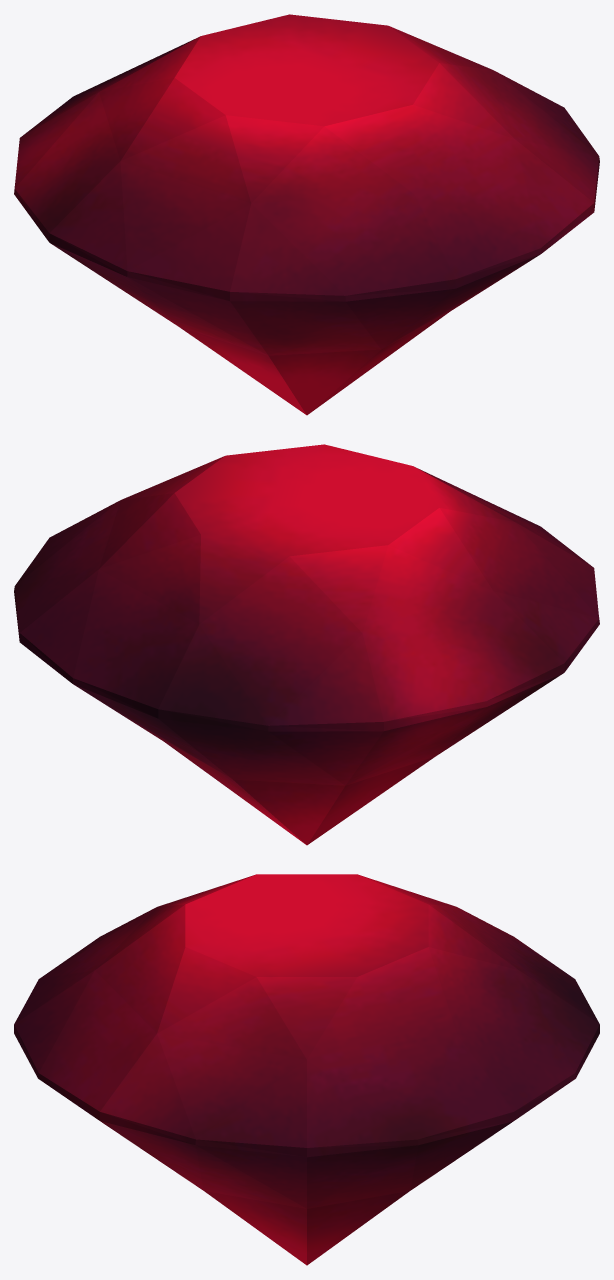
File: Red Chaos Emerald.obj
3 views of the same model, one above another, from view 1: azimuth 30°, elevation 25°; view 2: azimuth 150°, elevation 25°; view 3: azimuth 270°, elevation 25° (orthographic).
Parts seen in each view (by area): view 1: Object01; view 2: Object01; view 3: Object01.
Boxes of the visible parts, x1,y1,x2,y2 form: Object01: (14, 14, 599, 415); Object01: (14, 444, 599, 845); Object01: (14, 874, 599, 1265).
Bounding box in the file's own units: 151 × 96.96 × 151.
1 material, 1 textured.
